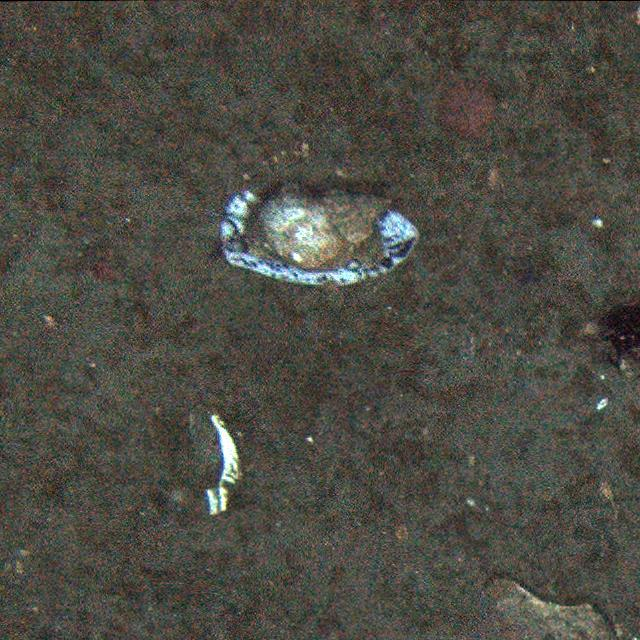whelk: (254, 184, 394, 262)
